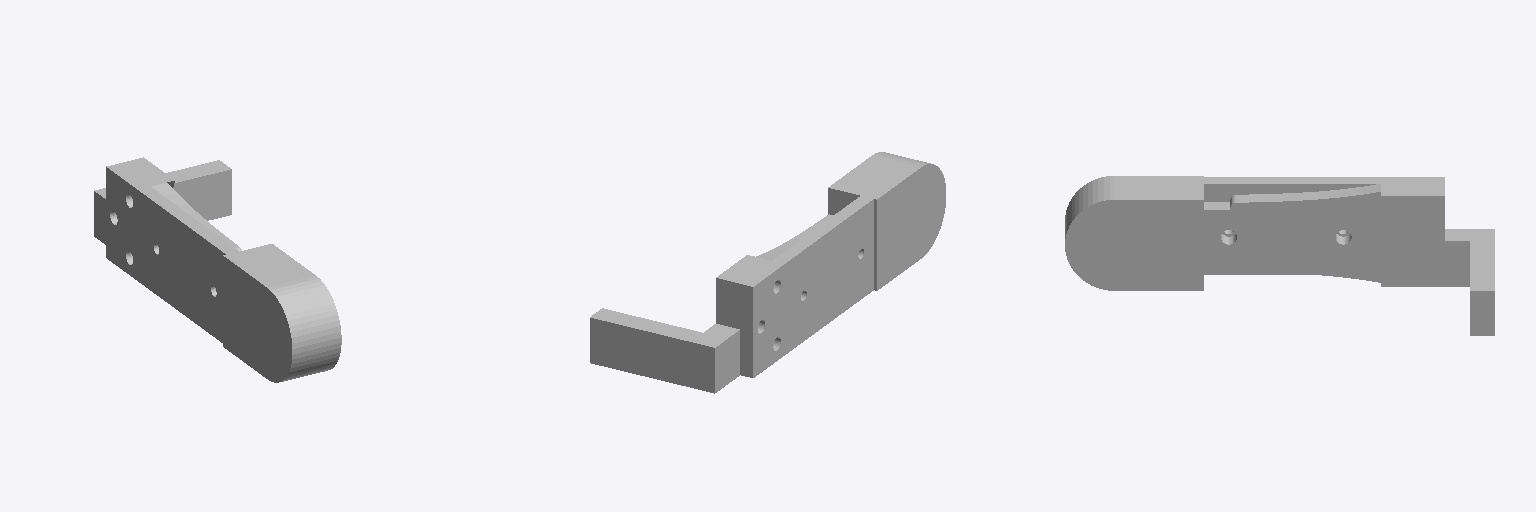
File: finger.obj
3 renders of one model, left to right at view 1: azimuth 30°, elevation 25°; view 2: azimuth 150°, elevation 25°; view 3: azimuth 270°, elevation 25°, orthographic.
Size of the model in its own units: 0.033 by 0.0203 by 0.0866.